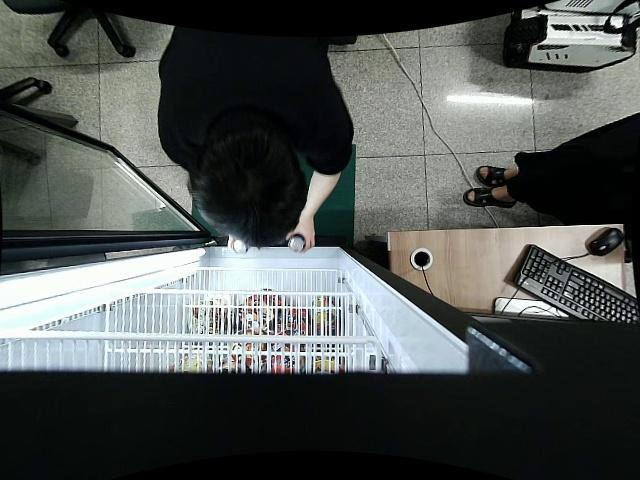00_hand: (286, 215, 317, 252)
14_welchsGrape: (287, 235, 307, 254), (234, 237, 255, 255)
